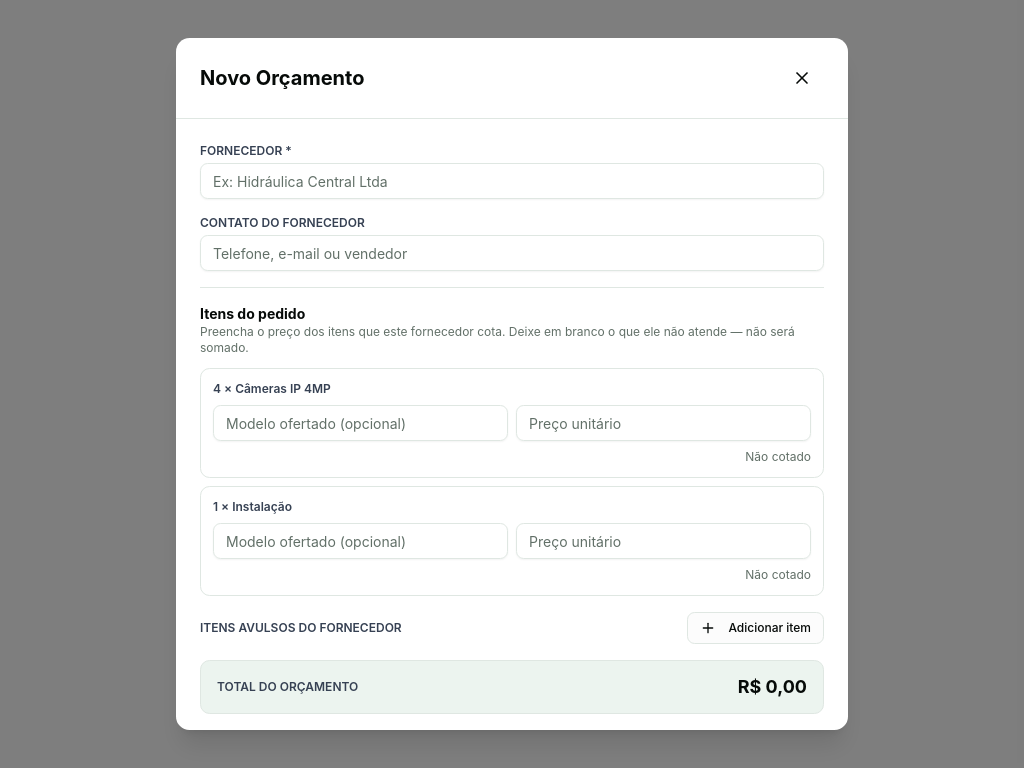
QuoteFormModal › refuses an extra line with no description
The width and height of the screenshot is (1024, 768).
In the field labelled "Fornecedor *": [512, 181] box [200,163,824,199], type "Fornecedor"
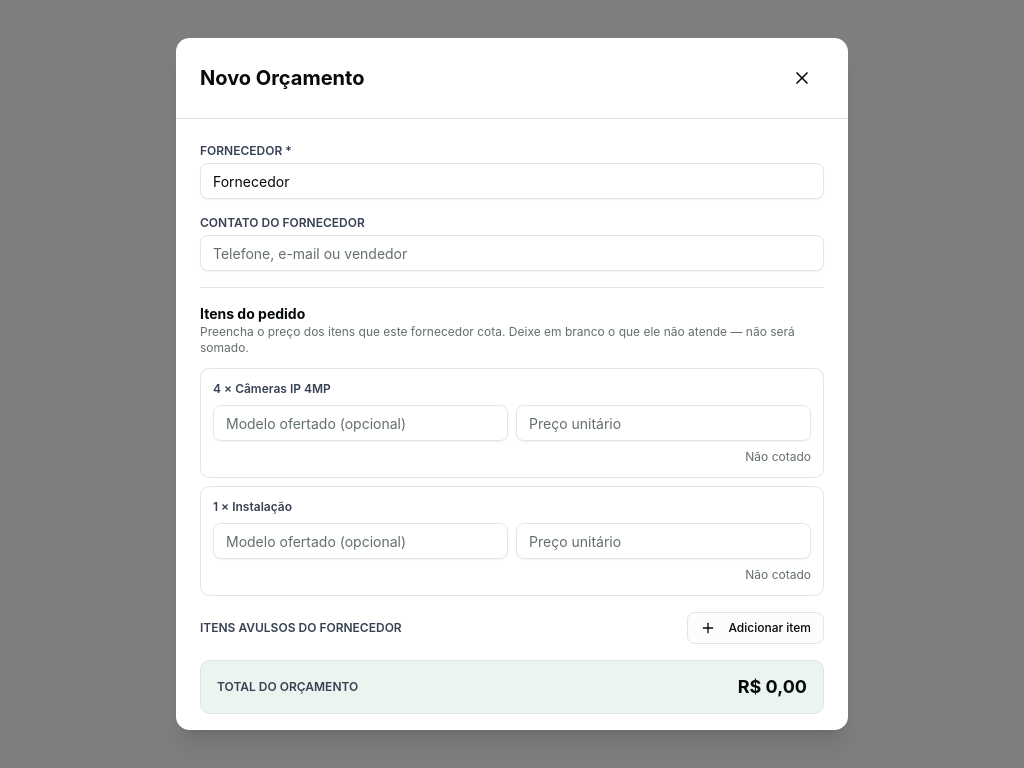
In the number field with test id "quote-line-price-ri-cam": [664, 423] box [516,405,811,441], type "10"
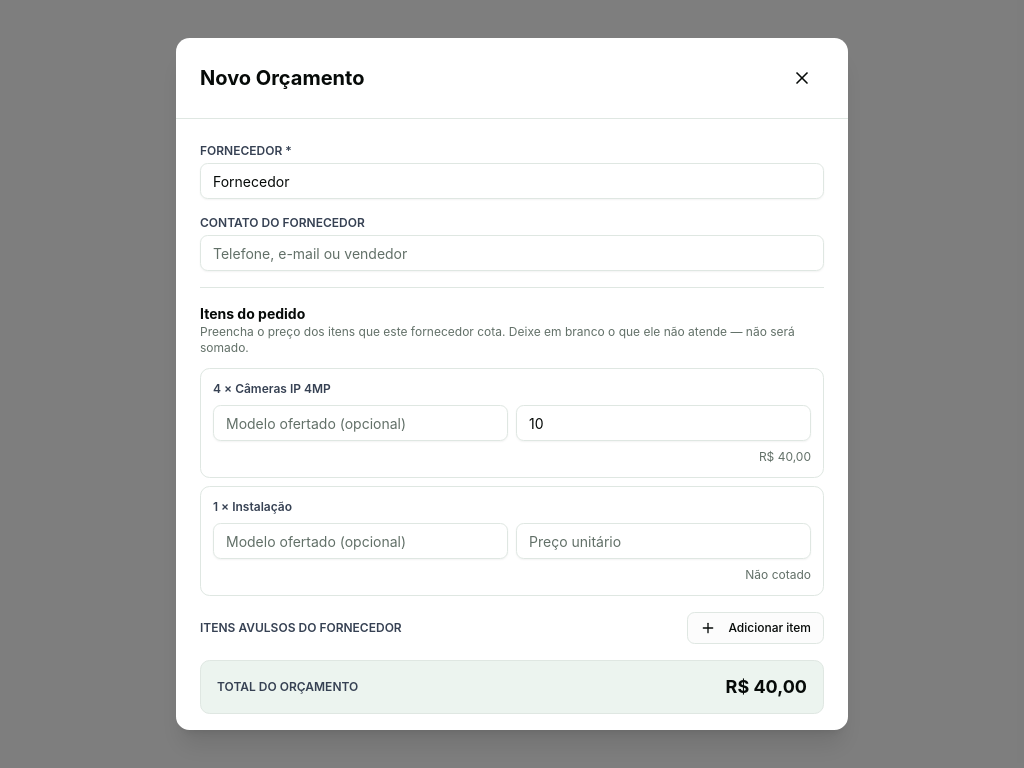
Click the button "Adicionar item": [756, 628] box [687,612,824,644]
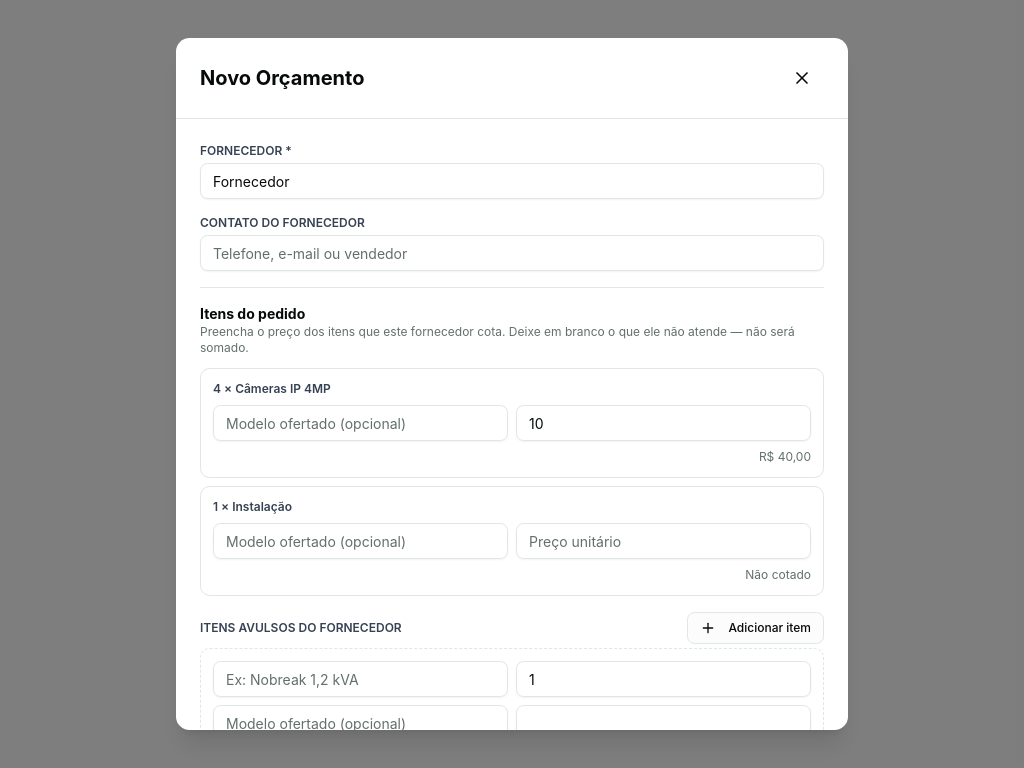
In the number field with test id "quote-extra-price-0": [664, 723] box [516,705,811,741], type "10"
(page scrolled)
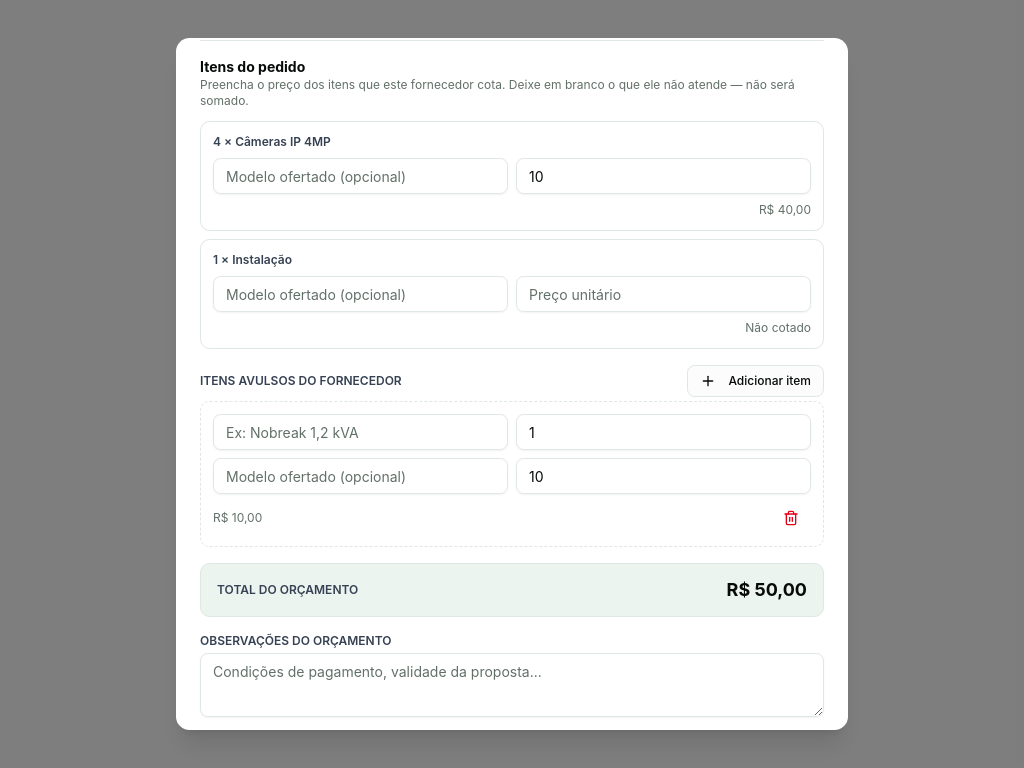
Submit the form with test id "quote-form"
(page scrolled)
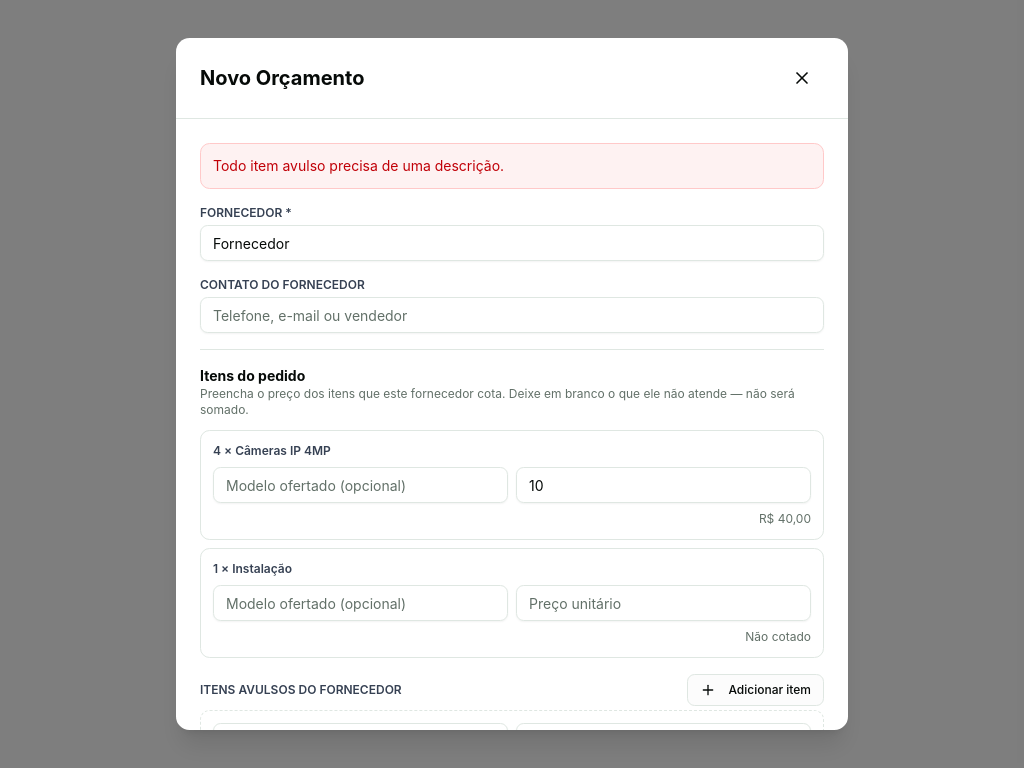
Expected: the text "Todo item avulso precisa de uma descrição." is shown, [200,143,824,189]
